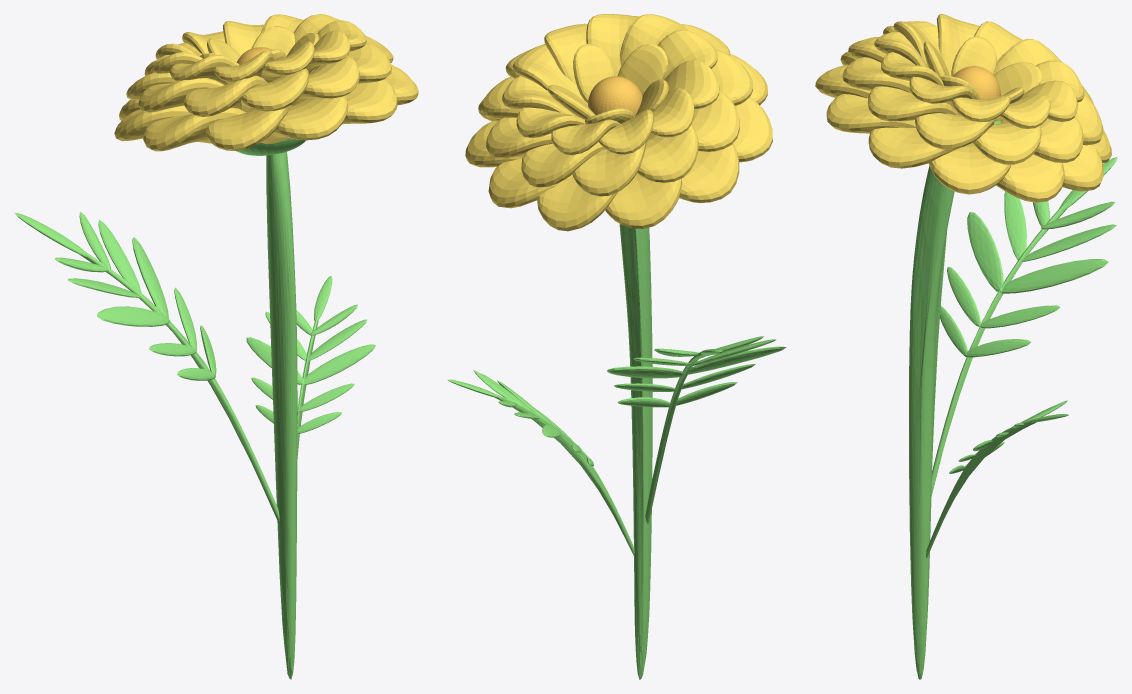
The model's file is Thanks_Marigold.glb.
The picture shows the model from 3 angles, left to right: view 1: azimuth 30°, elevation 25°; view 2: azimuth 150°, elevation 25°; view 3: azimuth 270°, elevation 25°; orthographic projection. The views are drawn at different scales.
Parts seen in each view (by area): view 1: Cylinder.001; view 2: Cylinder.001; view 3: Cylinder.001.
Boxes of the visible parts, bbox=[...] form: Cylinder.001: bbox=[15, 14, 418, 679]; Cylinder.001: bbox=[447, 14, 786, 679]; Cylinder.001: bbox=[815, 14, 1117, 679].
Bounding box in the file's own units: 6.95 × 13.79 × 5.9.
